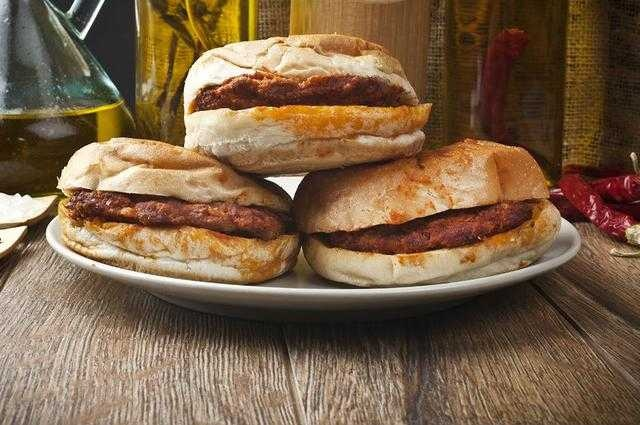hamburger: (56, 134, 294, 281), (284, 158, 590, 259), (166, 50, 432, 156)
